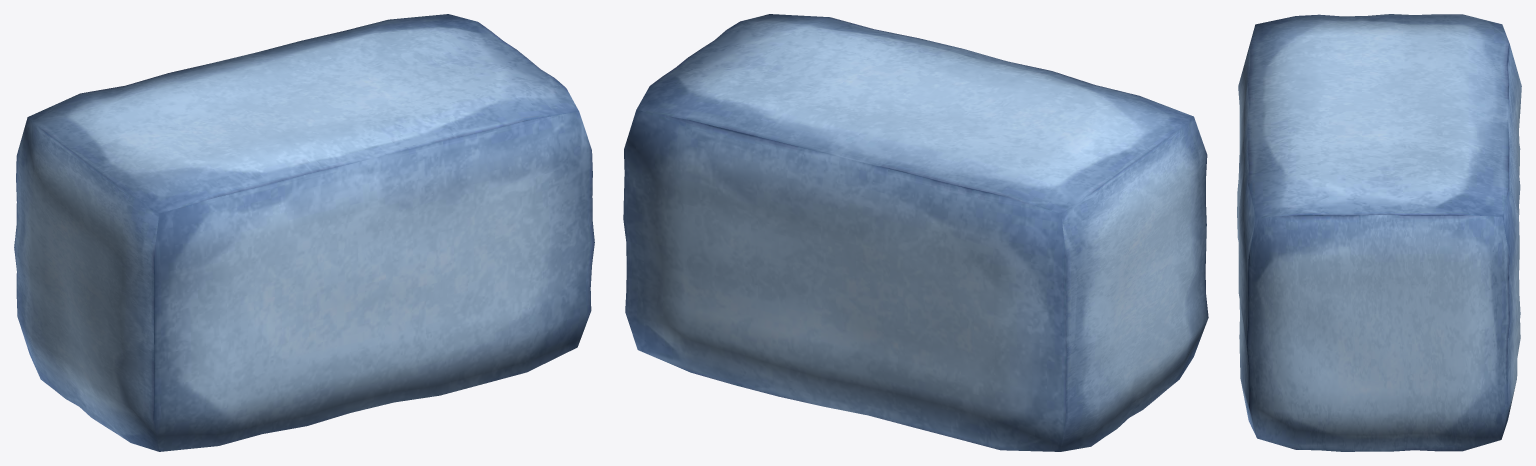
Rendered from wallBrick.fbx.
3 views of the same model, side by side, from view 1: azimuth 30°, elevation 25°; view 2: azimuth 150°, elevation 25°; view 3: azimuth 270°, elevation 25° (orthographic). The views are drawn at different scales.
Visible parts, largest first — view 1: Cube; view 2: Cube; view 3: Cube.
Boxes of the visible parts, bbox=[...] form: Cube: bbox=[14, 14, 594, 451]; Cube: bbox=[623, 14, 1208, 451]; Cube: bbox=[1237, 14, 1521, 451].
Bounding box in the file's own units: 2.33 × 1.33 × 1.33.
